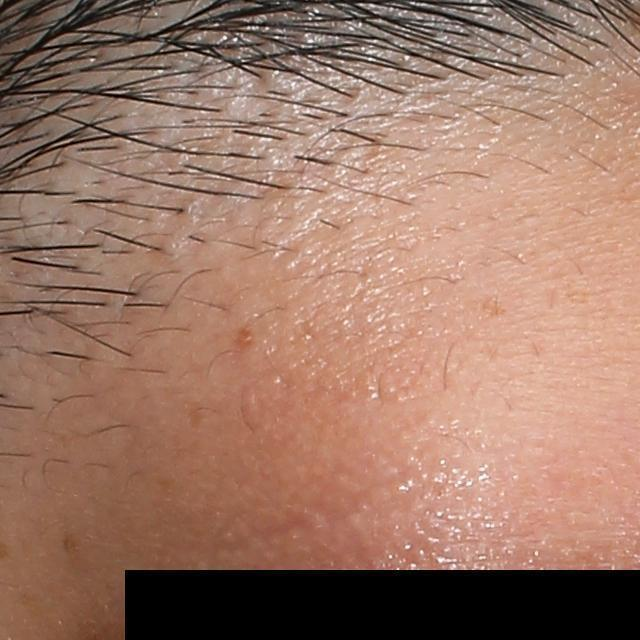melasma: (226, 328, 258, 356)
